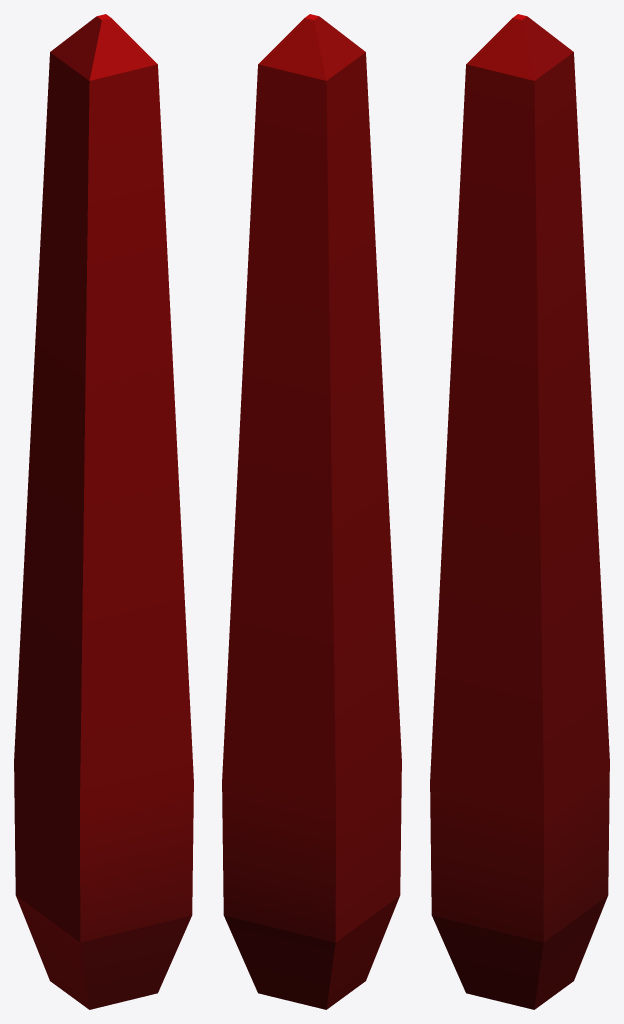
Rendered from geology-carvedstone-obelisk_v3.fbx.
The picture shows the model from 3 angles, left to right: view 1: azimuth 30°, elevation 25°; view 2: azimuth 150°, elevation 25°; view 3: azimuth 330°, elevation 25°; orthographic projection.
Parts seen in each view (by area): view 1: Obelisk_v3; view 2: Obelisk_v3; view 3: Obelisk_v3.
Boxes of the visible parts, box(x1,y1,x2,y2) form: Obelisk_v3: box(14, 14, 193, 1009); Obelisk_v3: box(222, 14, 401, 1009); Obelisk_v3: box(430, 14, 609, 1009).
Bounding box in the file's own units: 0.7469 × 6.07 × 0.7469.
